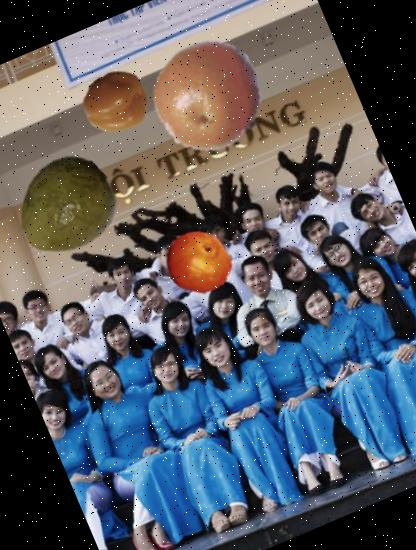Clementine: (152, 217, 242, 307)
Guava: (0, 139, 132, 274)
Pepper: (72, 59, 161, 148)
Tangelo: (135, 22, 284, 172)
